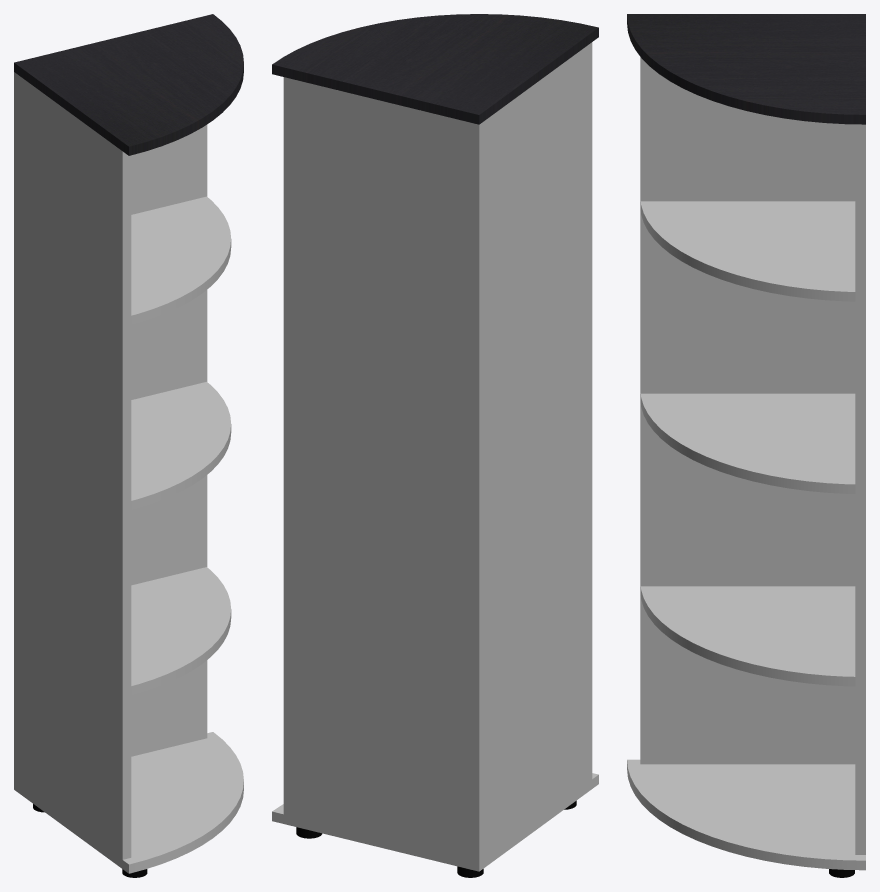
File: sweethome3d-lucapresidente-angle-shelf-160-13.glb
The picture shows the model from 3 angles, left to right: view 1: azimuth 30°, elevation 25°; view 2: azimuth 150°, elevation 25°; view 3: azimuth 270°, elevation 25°; orthographic projection. The views are drawn at different scales.
Visible parts, largest first — view 1: Line59_3, Cylinder57_6, Cylinder62_2, Cylinder60_1, Cylinder59_4, Cylinder58_5; view 2: Line59_3, Cylinder57_6, Cylinder62_2, Cylinder60_1, Cylinder58_5, Cylinder59_4; view 3: Line59_3, Cylinder57_6, Cylinder62_2, Cylinder59_4, Cylinder60_1, Cylinder58_5.
Boxes of the visible parts, <box> form: Line59_3: <box>14,72,207,859</box>; Cylinder57_6: <box>14,14,243,155</box>; Cylinder62_2: <box>14,732,243,873</box>; Cylinder60_1: <box>14,196,231,326</box>; Cylinder59_4: <box>14,382,231,509</box>; Cylinder58_5: <box>16,567,231,695</box>; Line59_3: <box>283,42,592,861</box>; Cylinder57_6: <box>272,14,598,124</box>; Cylinder62_2: <box>272,773,598,871</box>; Cylinder60_1: <box>479,216,592,304</box>; Cylinder58_5: <box>480,601,592,684</box>; Cylinder59_4: <box>484,408,592,495</box>; Line59_3: <box>640,57,865,854</box>; Cylinder57_6: <box>627,14,865,124</box>; Cylinder62_2: <box>627,759,865,870</box>; Cylinder59_4: <box>640,393,855,493</box>; Cylinder60_1: <box>640,201,855,301</box>; Cylinder58_5: <box>640,586,855,686</box>.
Size of the model in its own units: 45 by 160 by 45.
4 materials, 1 textured.
